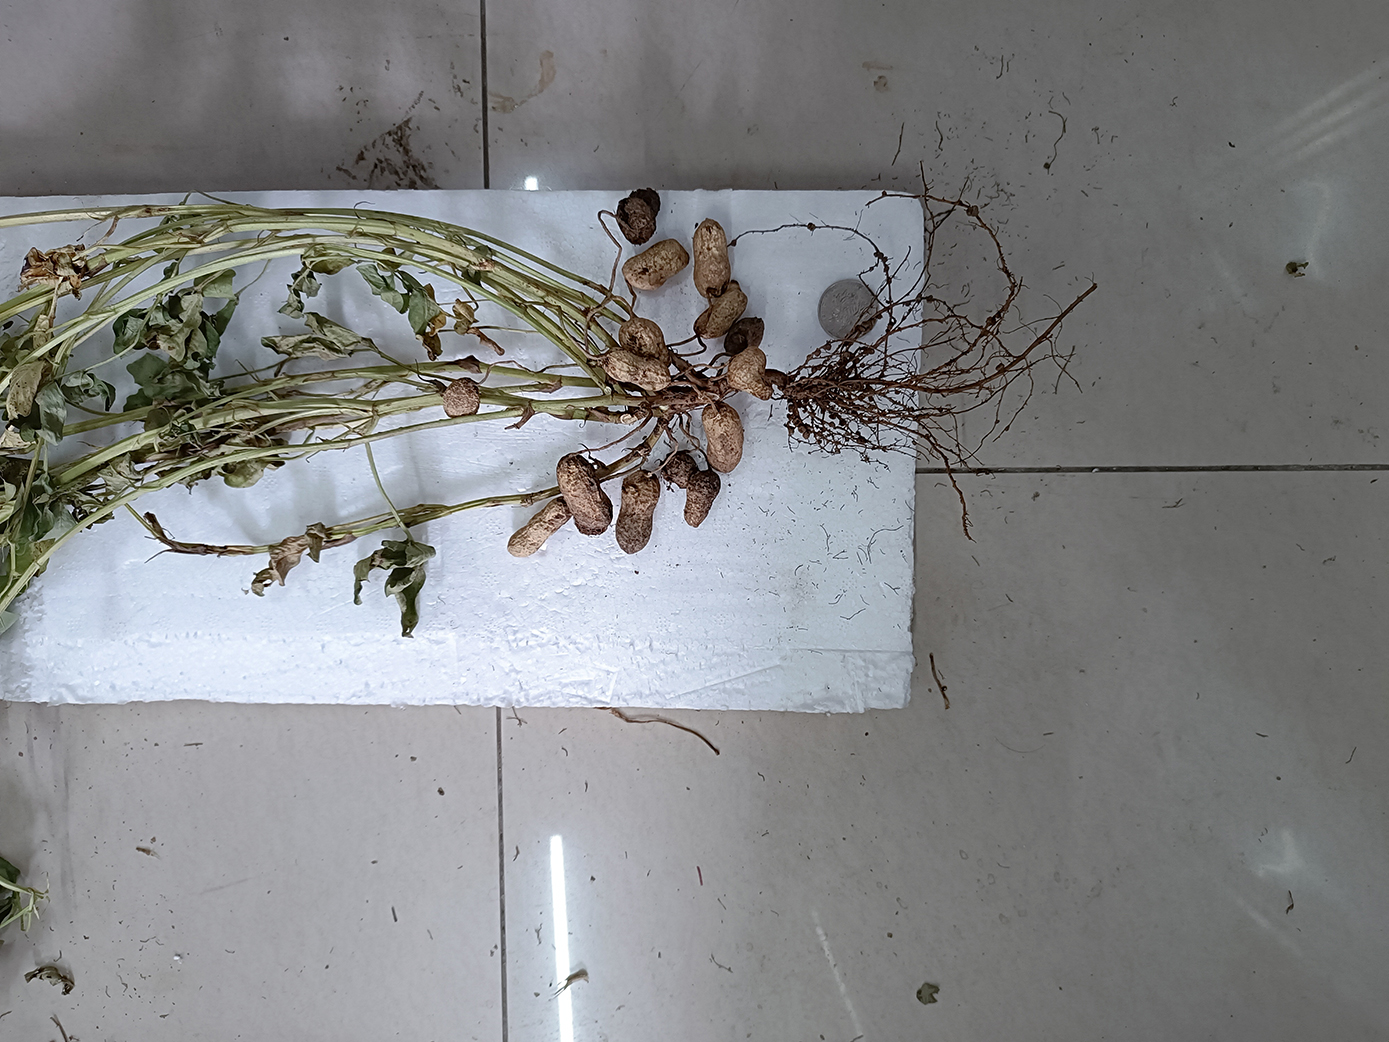h: (508, 495, 571, 558), (622, 238, 688, 293), (691, 216, 730, 299), (702, 402, 744, 476), (694, 280, 746, 338), (614, 315, 671, 360), (604, 349, 670, 387), (727, 346, 768, 400), (443, 377, 481, 418)
l: (553, 451, 612, 537), (615, 470, 660, 554), (615, 186, 659, 246), (682, 471, 719, 532), (725, 316, 767, 356), (662, 451, 690, 488)
